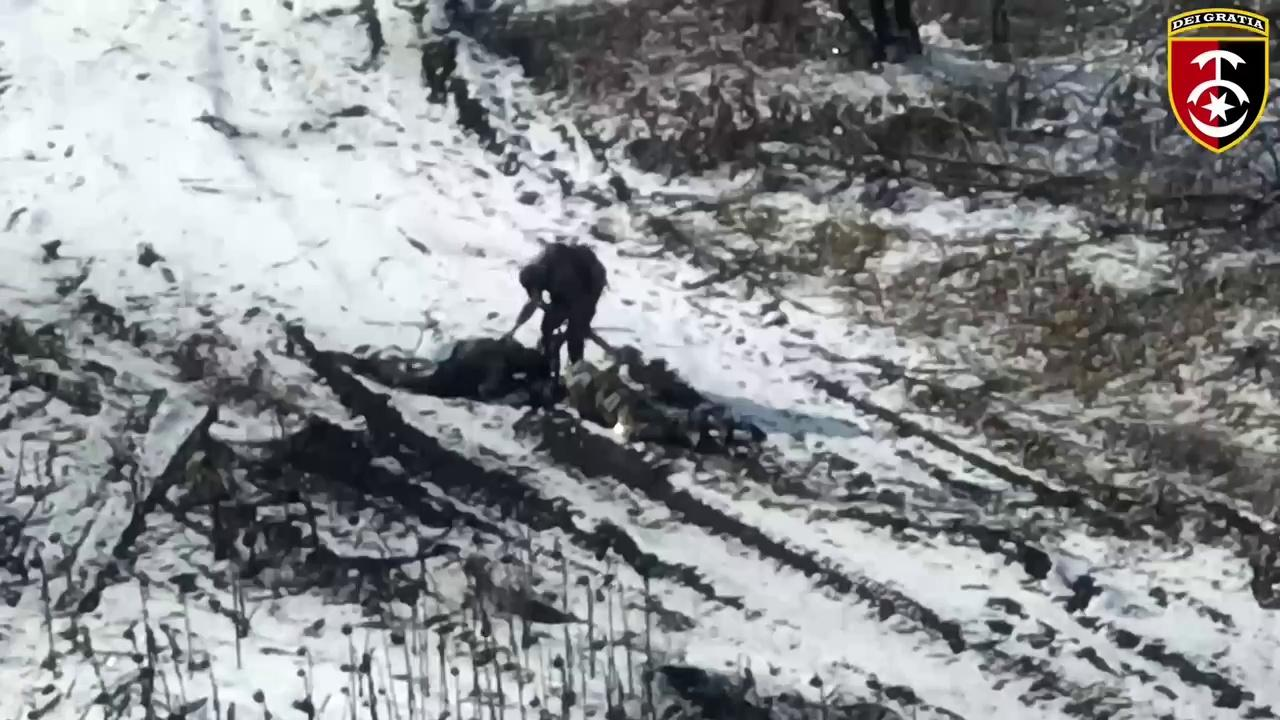person: (564, 342, 752, 460), (513, 241, 602, 383), (362, 327, 540, 398)
